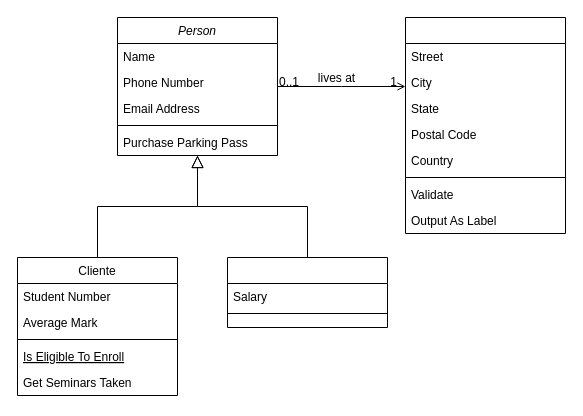
Image size: 583x416. Some labels were removed from this diagram. Here are the shapes that lost their labels. From the top down, the box of each, then its label:
(404, 16, 566, 234): Address
(226, 256, 388, 328): Professor
